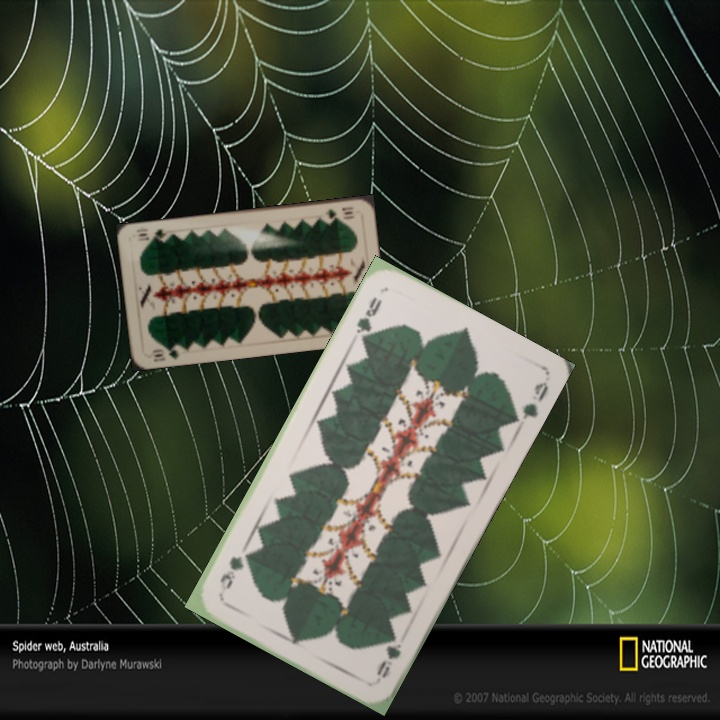G10: (145, 341, 185, 364), (321, 203, 357, 222)
G9: (352, 292, 385, 344), (372, 628, 404, 681)
